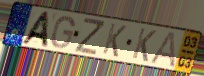A: (18, 10, 52, 49), (149, 31, 177, 70)
G: (49, 15, 76, 50)
K: (130, 26, 158, 64), (101, 22, 128, 59)
Z: (73, 17, 106, 57)
